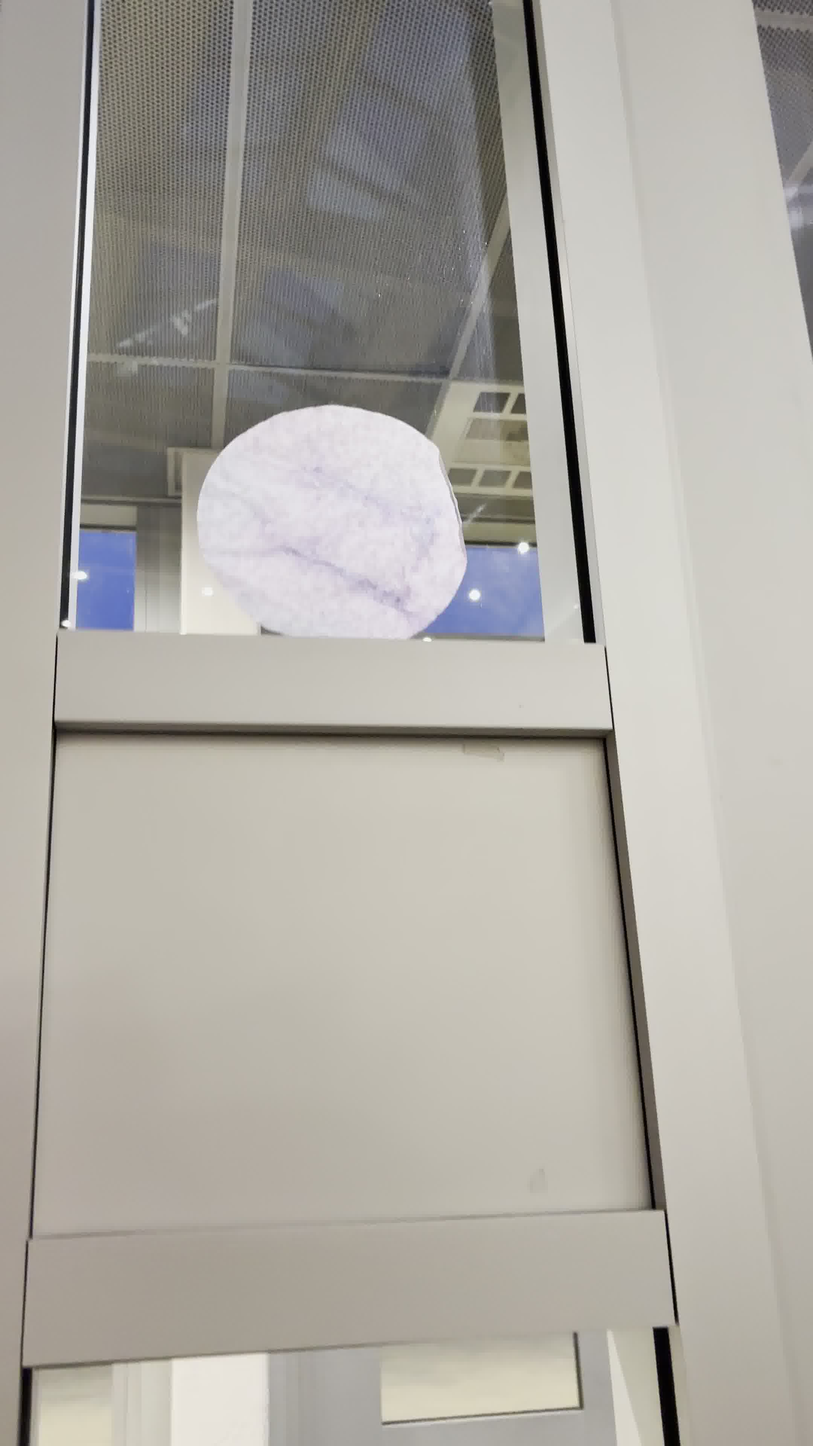Target: (195, 404, 471, 644)
